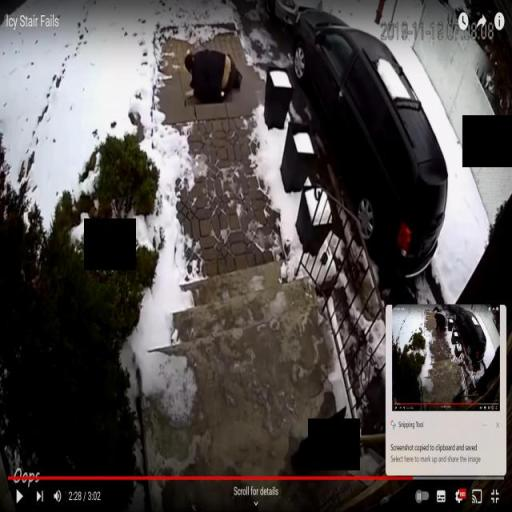Fall: (182, 44, 246, 109)
